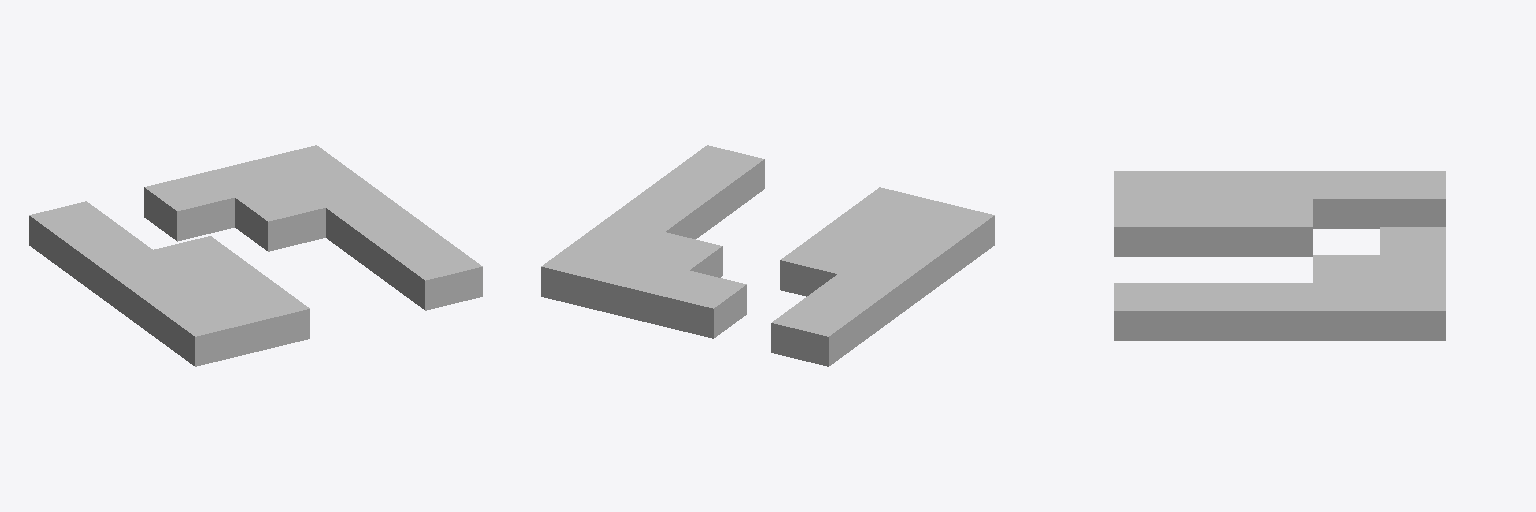
The model's file is 76s_block.obj.
The picture shows the model from 3 angles: view 1: azimuth 30°, elevation 25°; view 2: azimuth 150°, elevation 25°; view 3: azimuth 270°, elevation 25°; orthographic projection.
Visible parts, largest first — view 1: block.2.4_block.5110, block.4.0_block.5113, block.0.0_block.5101, block.3.3_block.5111, block.1.0_block.5106, block.0.3_block.5104, block.0.4_block.5105, block.4.1_block.5114, block.0.2_block.5103, block.0.1_block.5102, block.4.2_block.5115, block.4.3_block.5116 (+4 smaller); view 2: block.2.4_block.5110, block.0.4_block.5105, block.4.4_block.5117, block.3.4_block.5112, block.1.2_block.5108, block.4.1_block.5114, block.0.1_block.5102, block.0.0_block.5101, block.0.2_block.5103, block.0.3_block.5104, block.4.0_block.5113, block.3.3_block.5111 (+4 smaller); view 3: block.0.3_block.5104, block.1.1_block.5107, block.4.1_block.5114, block.4.3_block.5116, block.1.0_block.5106, block.1.2_block.5108, block.4.0_block.5113, block.4.2_block.5115, block.4.4_block.5117, block.0.4_block.5105, block.0.1_block.5102, block.3.3_block.5111 (+4 smaller).
Part boxes in pixels (x1,y1,x2,y2): block.2.4_block.5110: (144, 173, 234, 241); block.4.0_block.5113: (392, 242, 482, 310); block.0.0_block.5101: (162, 298, 252, 366); block.3.3_block.5111: (235, 183, 325, 251); block.1.0_block.5106: (220, 285, 309, 352); block.0.3_block.5104: (62, 226, 152, 293); block.0.4_block.5105: (29, 201, 119, 268); block.4.1_block.5114: (359, 218, 448, 285); block.0.2_block.5103: (96, 250, 184, 317); block.0.1_block.5102: (129, 274, 218, 341); block.4.2_block.5115: (326, 194, 415, 261); block.4.3_block.5116: (293, 169, 382, 207); block.2.4_block.5110: (656, 270, 746, 338); block.0.4_block.5105: (771, 298, 861, 366); block.4.4_block.5117: (541, 242, 631, 310); block.3.4_block.5112: (599, 257, 688, 324); block.1.2_block.5108: (780, 236, 869, 296); block.4.1_block.5114: (641, 169, 731, 237); block.0.1_block.5102: (871, 226, 961, 293); block.0.0_block.5101: (904, 201, 994, 268); block.0.2_block.5103: (839, 250, 927, 317); block.0.3_block.5104: (805, 274, 894, 341); block.4.0_block.5113: (675, 145, 764, 212); block.3.3_block.5111: (632, 232, 722, 277); block.0.3_block.5104: (1313, 171, 1379, 228); block.1.1_block.5107: (1180, 199, 1246, 256); block.4.1_block.5114: (1180, 283, 1246, 340); block.4.3_block.5116: (1313, 283, 1379, 340); block.1.0_block.5106: (1114, 199, 1179, 256); block.1.2_block.5108: (1247, 199, 1312, 256); block.4.0_block.5113: (1114, 283, 1179, 340); block.4.2_block.5115: (1247, 283, 1312, 340); block.4.4_block.5117: (1380, 283, 1445, 340); block.0.4_block.5105: (1380, 171, 1445, 226); block.0.1_block.5102: (1180, 171, 1246, 198); block.3.3_block.5111: (1313, 255, 1379, 282).
Size of the model in its own units: 10 by 1 by 10.